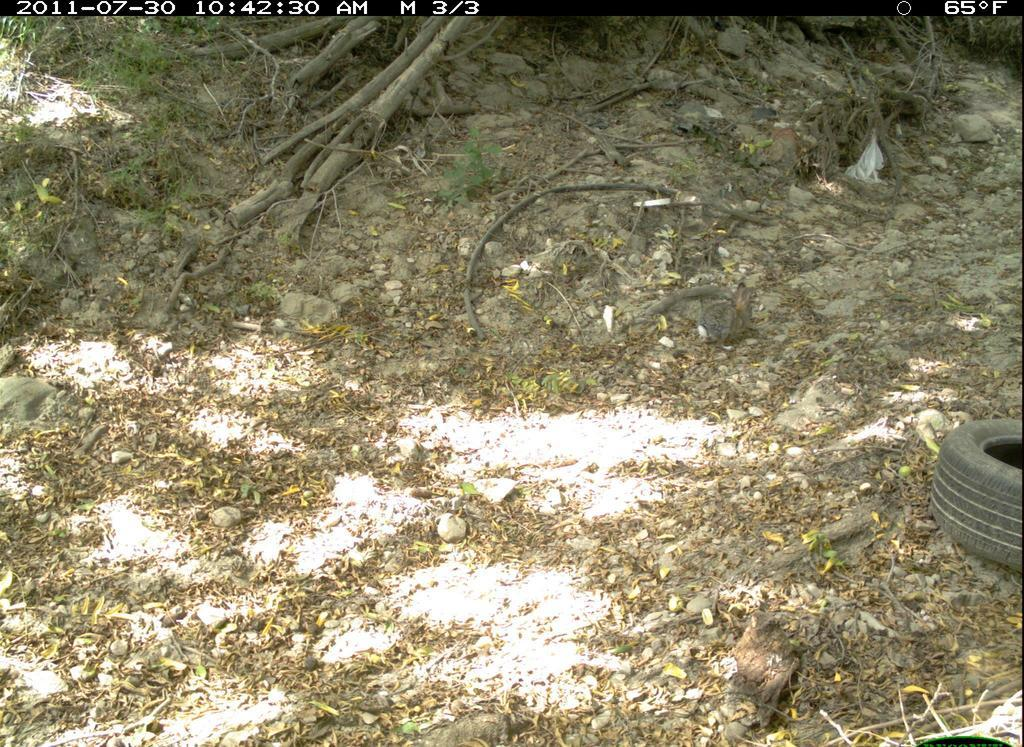rabbit: (692, 281, 765, 354)
